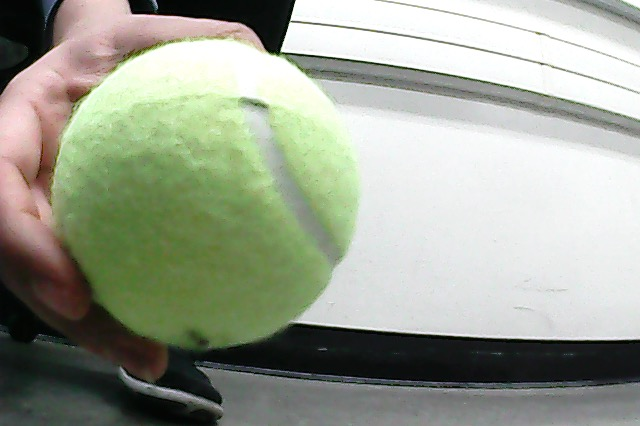ball: (51, 38, 365, 357)
